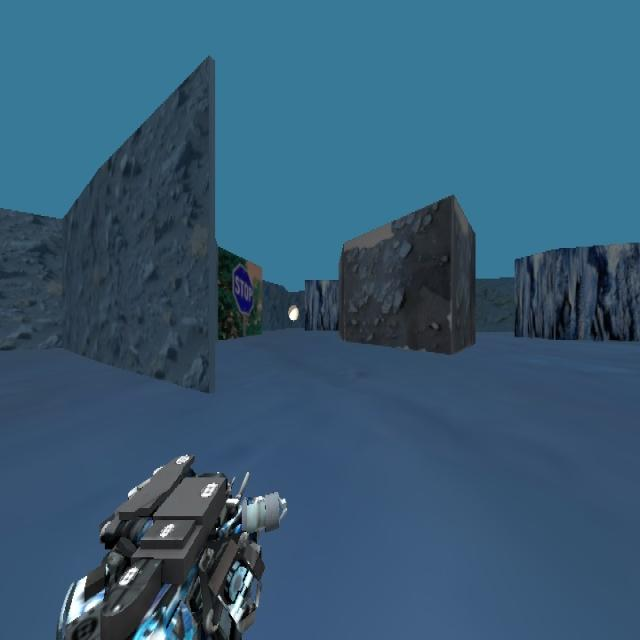Circle: (287, 304, 299, 321)
Stop_Sign: (231, 262, 254, 314)
